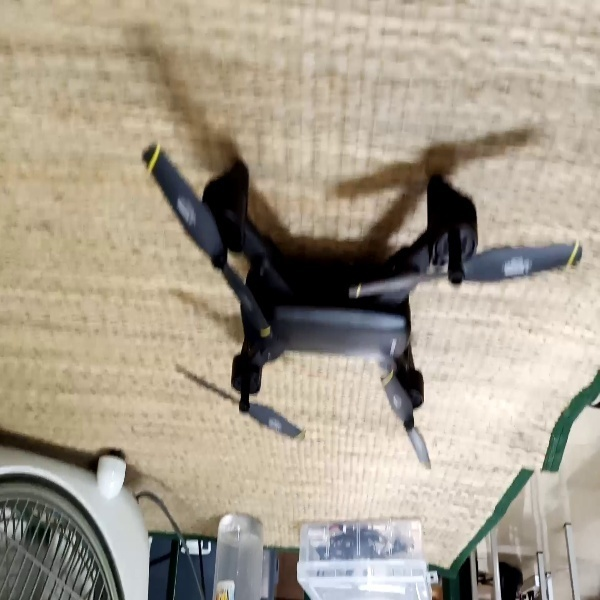drone: (138, 142, 584, 473)
